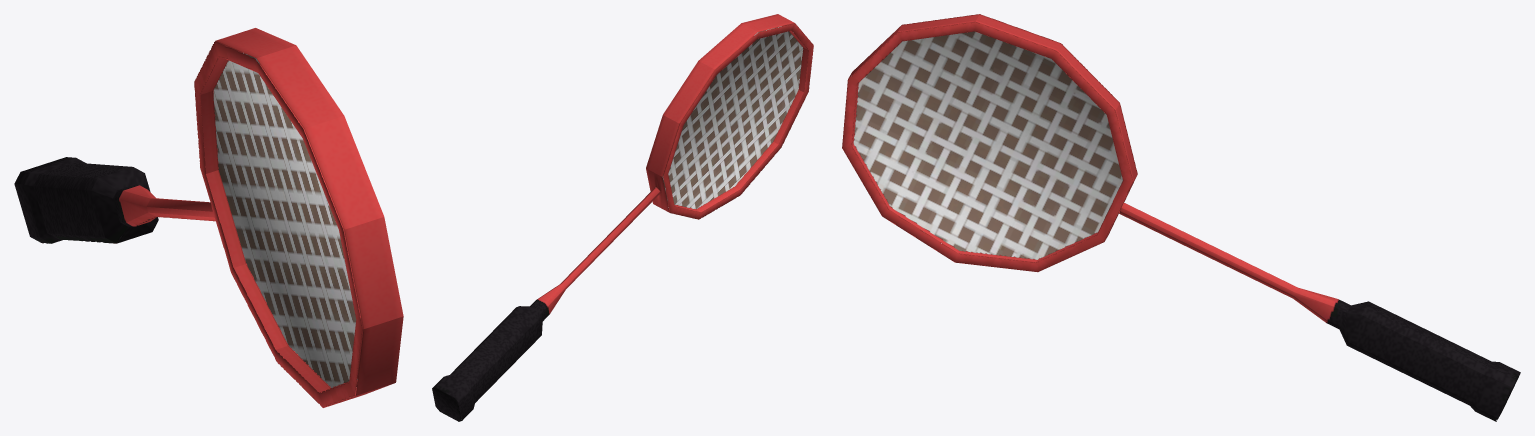
Rendered from BadmintonRacketAnimated_Red.fbx.
3 views of the same model, side by side, from view 1: azimuth 30°, elevation 25°; view 2: azimuth 150°, elevation 25°; view 3: azimuth 270°, elevation 25° (orthographic). The views are drawn at different scales.
Parts seen in each view (by area): view 1: badminton racket; view 2: badminton racket; view 3: badminton racket.
Part boxes in pixels (x1,y1,x2,y2): badminton racket: (14, 28, 403, 407); badminton racket: (432, 14, 813, 421); badminton racket: (842, 14, 1520, 421).
Size of the model in its own units: 39.37 by 79.14 by 142.
